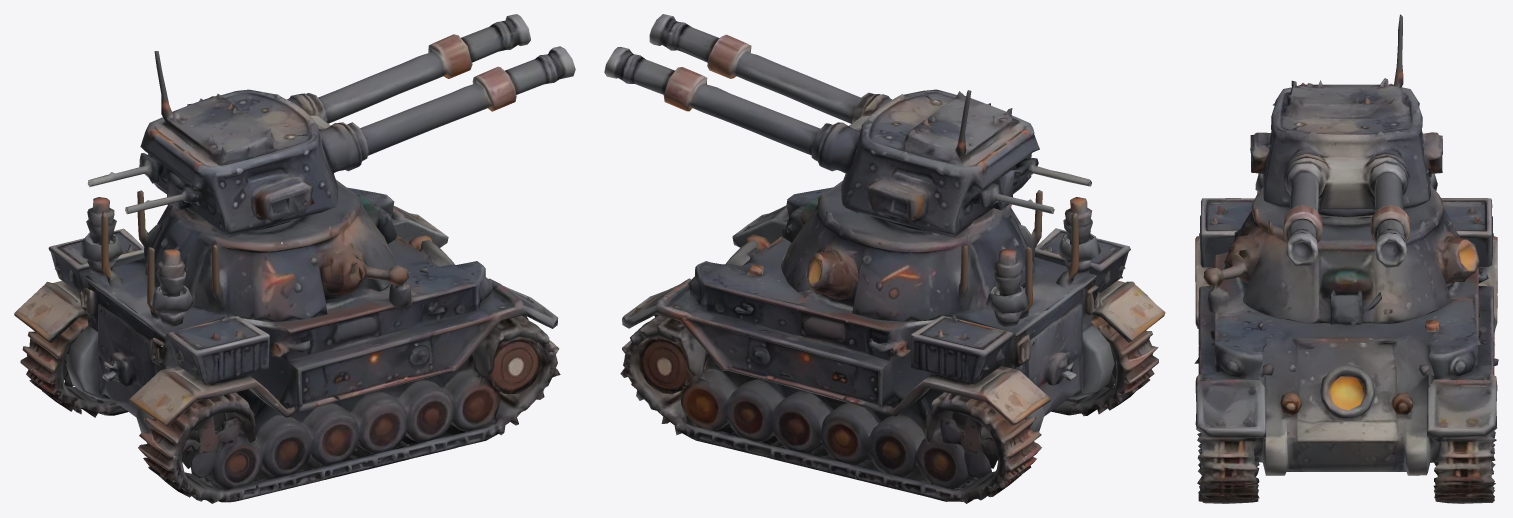
Rendered from midir_engine.glb.
3 views of the same model, side by side, from view 1: azimuth 30°, elevation 25°; view 2: azimuth 150°, elevation 25°; view 3: azimuth 270°, elevation 25° (orthographic).
Visible parts, largest first — view 1: tripo_node_b123f2ae-d09e-4622-b17d-43f7d0d366f8; view 2: tripo_node_b123f2ae-d09e-4622-b17d-43f7d0d366f8; view 3: tripo_node_b123f2ae-d09e-4622-b17d-43f7d0d366f8.
Boxes of the visible parts, bbox=[...] form: tripo_node_b123f2ae-d09e-4622-b17d-43f7d0d366f8: bbox=[14, 14, 575, 503]; tripo_node_b123f2ae-d09e-4622-b17d-43f7d0d366f8: bbox=[604, 14, 1165, 503]; tripo_node_b123f2ae-d09e-4622-b17d-43f7d0d366f8: bbox=[1194, 14, 1498, 503].
Bounding box in the file's own units: 1 × 0.7822 × 0.5783.
Materials: 1 (1 with a texture image).
